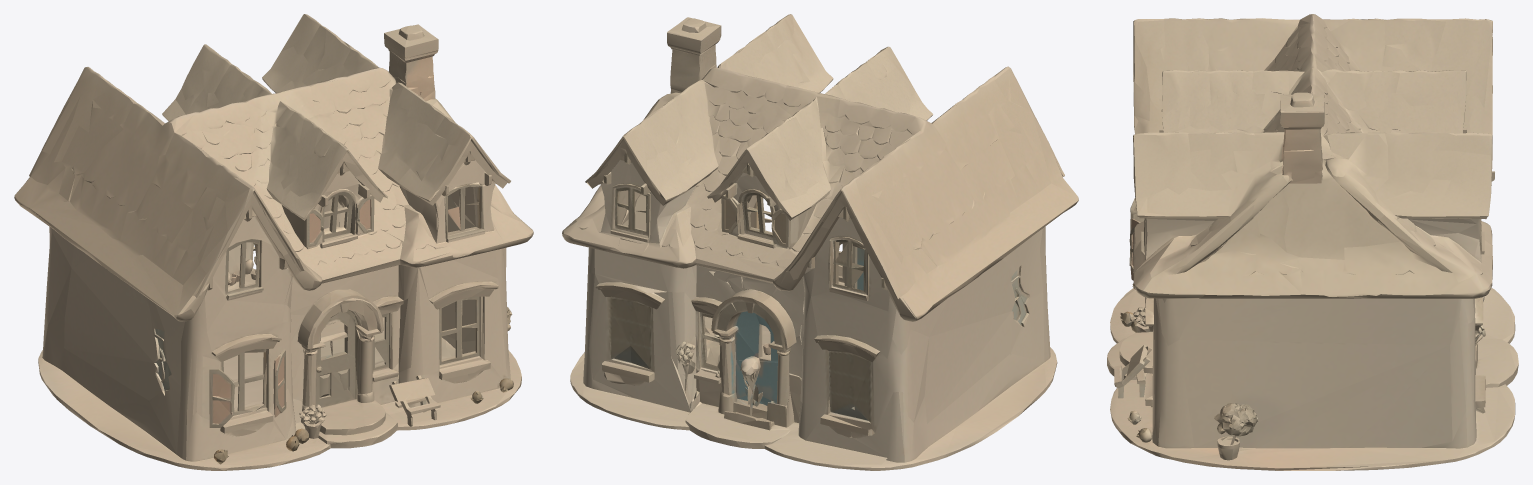
The model's file is meshy-1795541683292.glb.
3 renders of one model, left to right at view 1: azimuth 30°, elevation 25°; view 2: azimuth 150°, elevation 25°; view 3: azimuth 270°, elevation 25°, orthographic. The views are drawn at different scales.
Bounding box in the file's own units: 1.9 × 1.47 × 1.61.
1 material, 1 textured.
